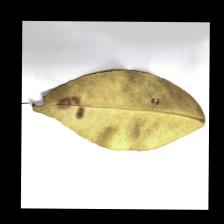black spot: (31, 83, 117, 145)
